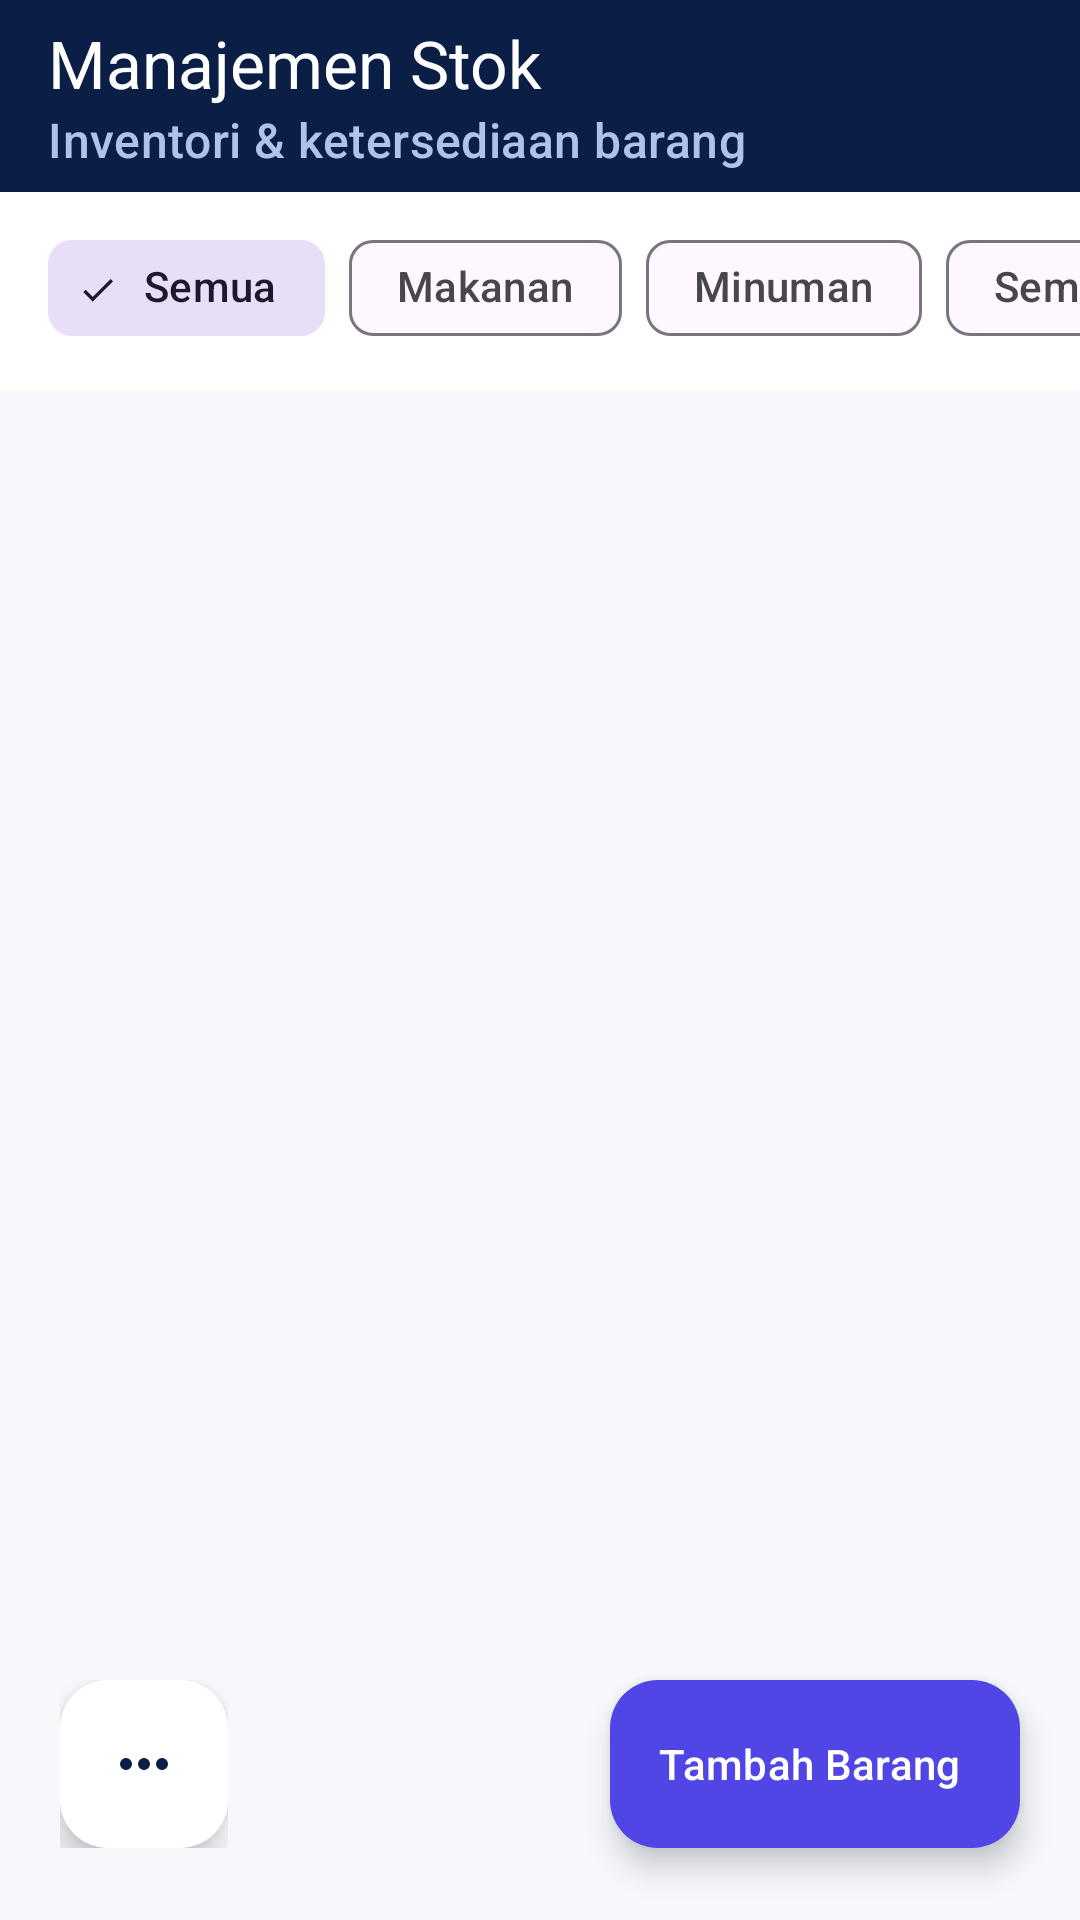

Icon bounding boxes for this 1080*1920 phone screenshot, format (x1, y1, x2, y2):
Menu: (60, 1680, 228, 1848)
